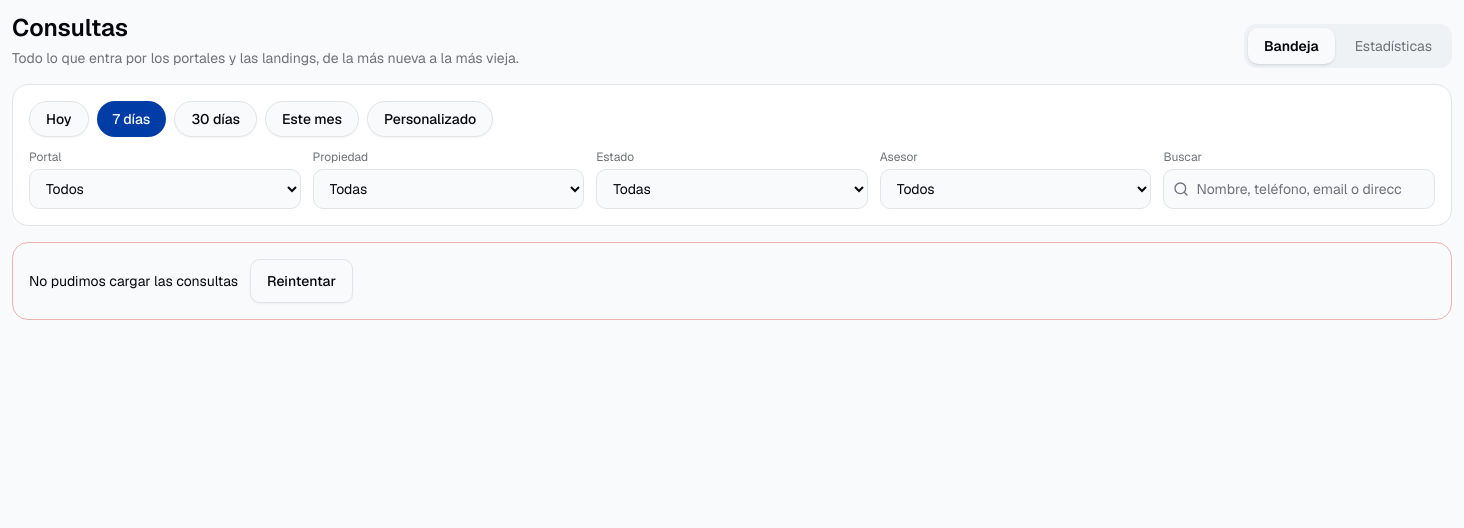
/consultas — bandeja › si el servidor no pudo leer el período: el mensaje real y "Reintentar" pide una vez
This screenshot has width=1464, height=528.
Expected: the text "No pudimos cargar las consultas" is shown, [29, 271, 238, 291]
Click the button "Reintentar" at {"x": 302, "y": 281}, box [250, 259, 353, 303]
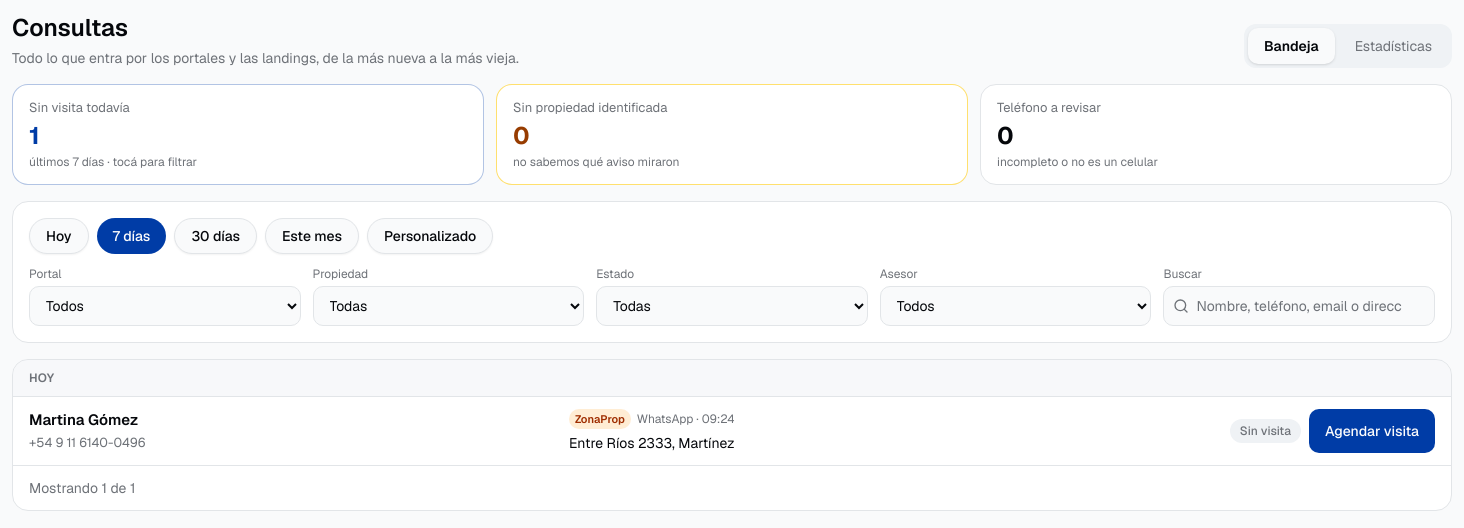
Expected: the text "Martina Gómez" is shown, [29, 409, 138, 431]
